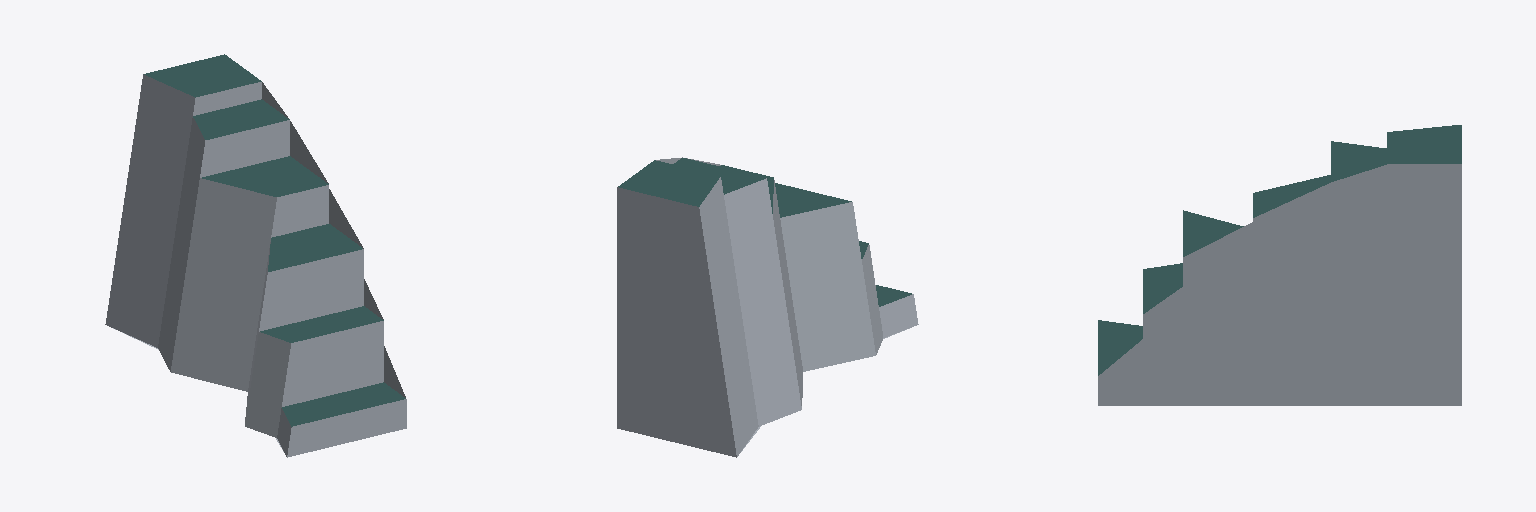
The picture shows the model from 3 angles: view 1: azimuth 30°, elevation 25°; view 2: azimuth 150°, elevation 25°; view 3: azimuth 270°, elevation 25°; orthographic projection.
Visible parts, largest first — view 1: Mesh1 Grey_Cliff_End_Green_Top Model; view 2: Mesh1 Grey_Cliff_End_Green_Top Model; view 3: Mesh1 Grey_Cliff_End_Green_Top Model.
Boxes of the visible parts, <box> form: Mesh1 Grey_Cliff_End_Green_Top Model: <box>105,54,406,457</box>; Mesh1 Grey_Cliff_End_Green_Top Model: <box>617,157,918,457</box>; Mesh1 Grey_Cliff_End_Green_Top Model: <box>1098,125,1461,405</box>.
Size of the model in its own units: 1.14 by 2.2 by 3.
1 materials, 1 textured.